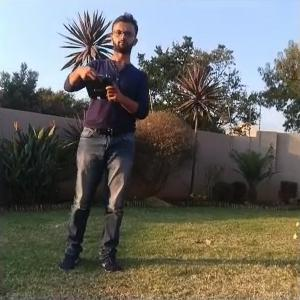follow: (53, 4, 152, 275)
